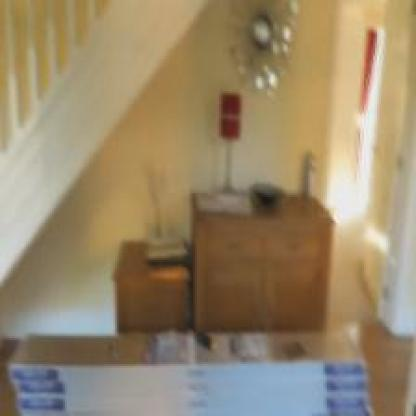other: (217, 84, 251, 148), (361, 19, 374, 115)
